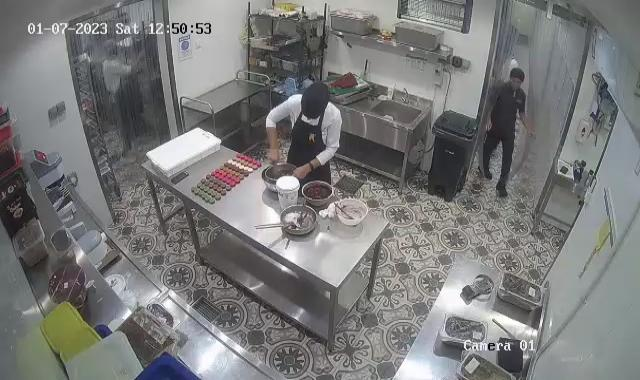no_hairnet: (298, 80, 330, 122), (508, 66, 526, 84)
